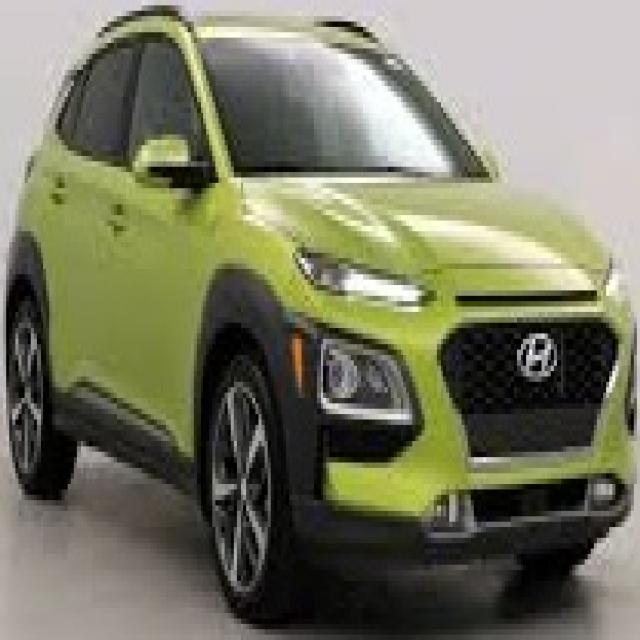green: (10, 9, 640, 612)
